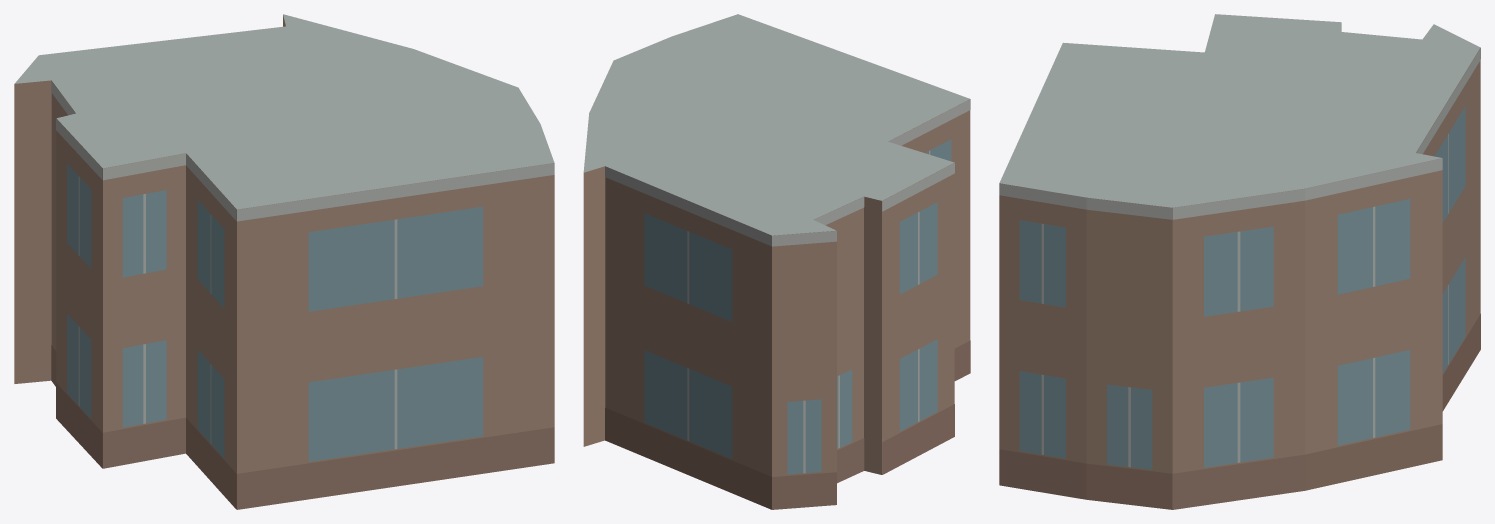
The model's file is survey-upis-33028385.glb.
3 renders of one model, left to right at view 1: azimuth 30°, elevation 25°; view 2: azimuth 150°, elevation 25°; view 3: azimuth 270°, elevation 25°, orthographic. The views are drawn at different scales.
Parts seen in each view (by area): view 1: survey-upis-33028385.tmp; view 2: survey-upis-33028385.tmp; view 3: survey-upis-33028385.tmp.
Part boxes in pixels (<box>): survey-upis-33028385.tmp: <box>14,14,554,509</box>; survey-upis-33028385.tmp: <box>583,14,970,509</box>; survey-upis-33028385.tmp: <box>999,14,1480,509</box>.
Bounding box in the file's own units: 8.4 × 6.1 × 8.82.
